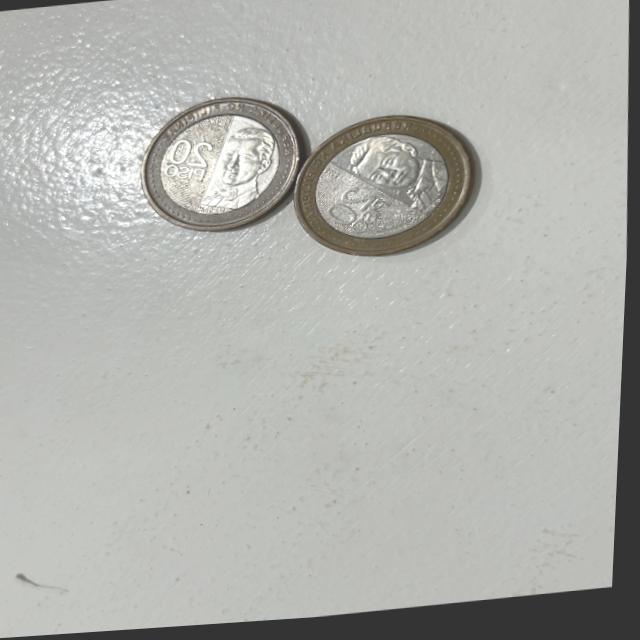20_New_Front: (320, 185, 401, 236), (162, 131, 229, 188)
